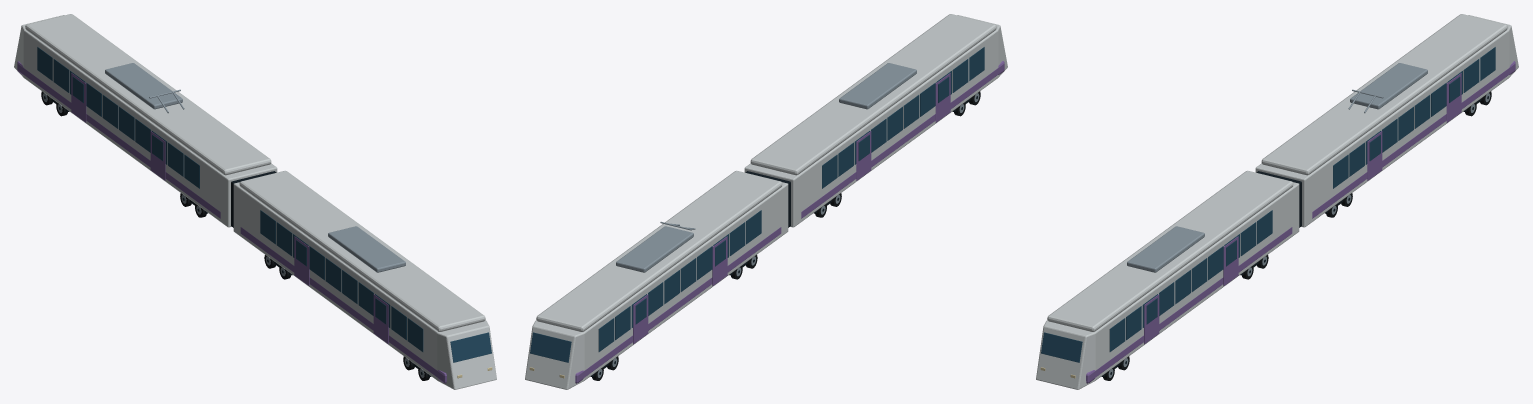
Rendered from train.glb.
3 renders of one model, left to right at view 1: azimuth 30°, elevation 25°; view 2: azimuth 150°, elevation 25°; view 3: azimuth 330°, elevation 25°, orthographic.
Visible parts, largest first — view 1: train_body, train_glass, train_metal; view 2: train_body, train_glass, train_metal; view 3: train_body, train_glass, train_metal.
Part boxes in pixels (x1,y1,x2,y2): train_body: (14, 14, 496, 389); train_glass: (37, 47, 491, 362); train_metal: (42, 63, 424, 377); train_body: (525, 14, 1007, 389); train_glass: (530, 47, 984, 362); train_metal: (597, 63, 979, 377); train_body: (1036, 14, 1518, 389); train_glass: (1041, 47, 1495, 362); train_metal: (1108, 63, 1490, 377).
Bounding box in the file's own units: 3.04 × 4.34 × 44.47.
